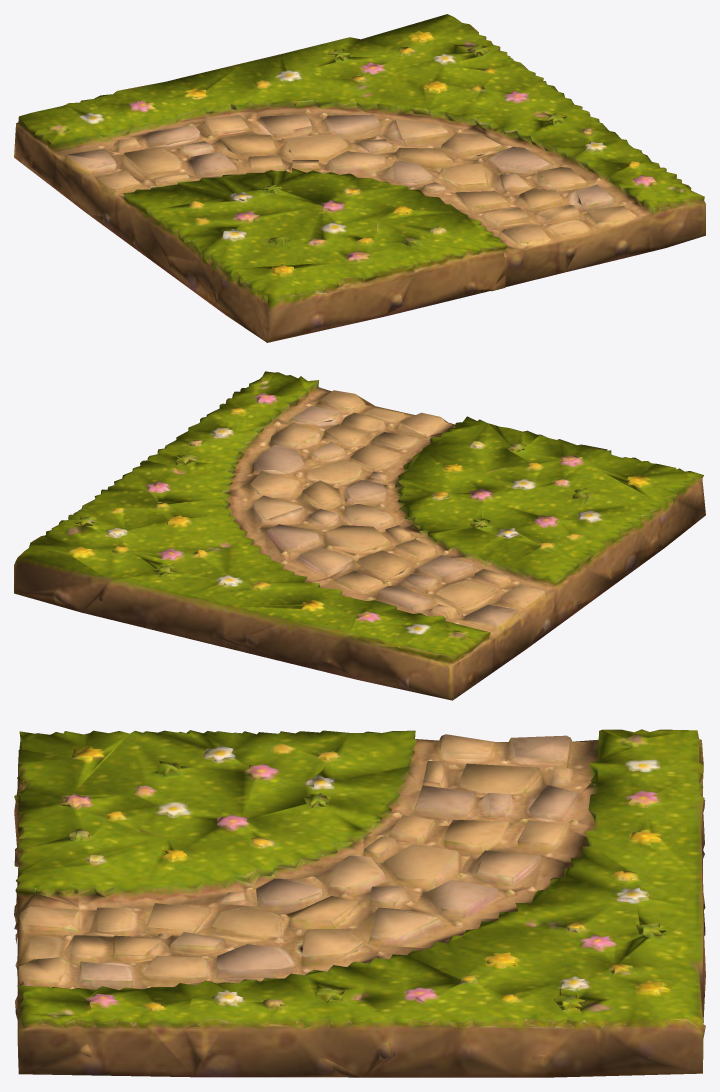
The model's file is path-curve.glb.
3 views of the same model, one above another, from view 1: azimuth 30°, elevation 25°; view 2: azimuth 150°, elevation 25°; view 3: azimuth 270°, elevation 25° (orthographic). The views are drawn at different scales.
Visible parts, largest first — view 1: Mesh1.0; view 2: Mesh1.0; view 3: Mesh1.0.
Part boxes in pixels (x1,y1,x2,y2): Mesh1.0: (14,14,705,342); Mesh1.0: (14,371,705,700); Mesh1.0: (14,729,705,1077).
Size of the model in its own units: 1.9 by 0.2101 by 1.9.
1 material, 1 textured.
